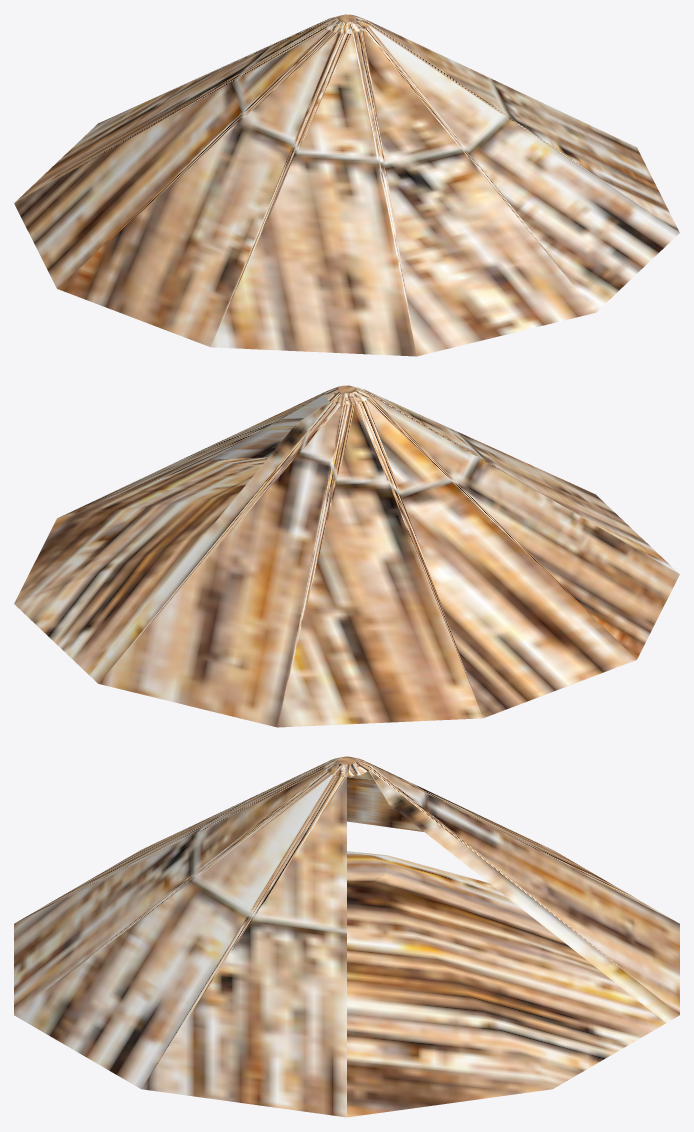
File: chapeau.fbx
The picture shows the model from 3 angles, top to bottom: view 1: azimuth 30°, elevation 25°; view 2: azimuth 150°, elevation 25°; view 3: azimuth 270°, elevation 25°; orthographic projection. The views are drawn at different scales.
Visible parts, largest first — view 1: chapeau; view 2: chapeau; view 3: chapeau.
Part boxes in pixels (box(x1,y1,x2,y2)): chapeau: box(14, 14, 679, 356); chapeau: box(14, 385, 679, 727); chapeau: box(14, 756, 679, 1117).
Bounding box in the file's own units: 75.98 × 25.01 × 72.26.
